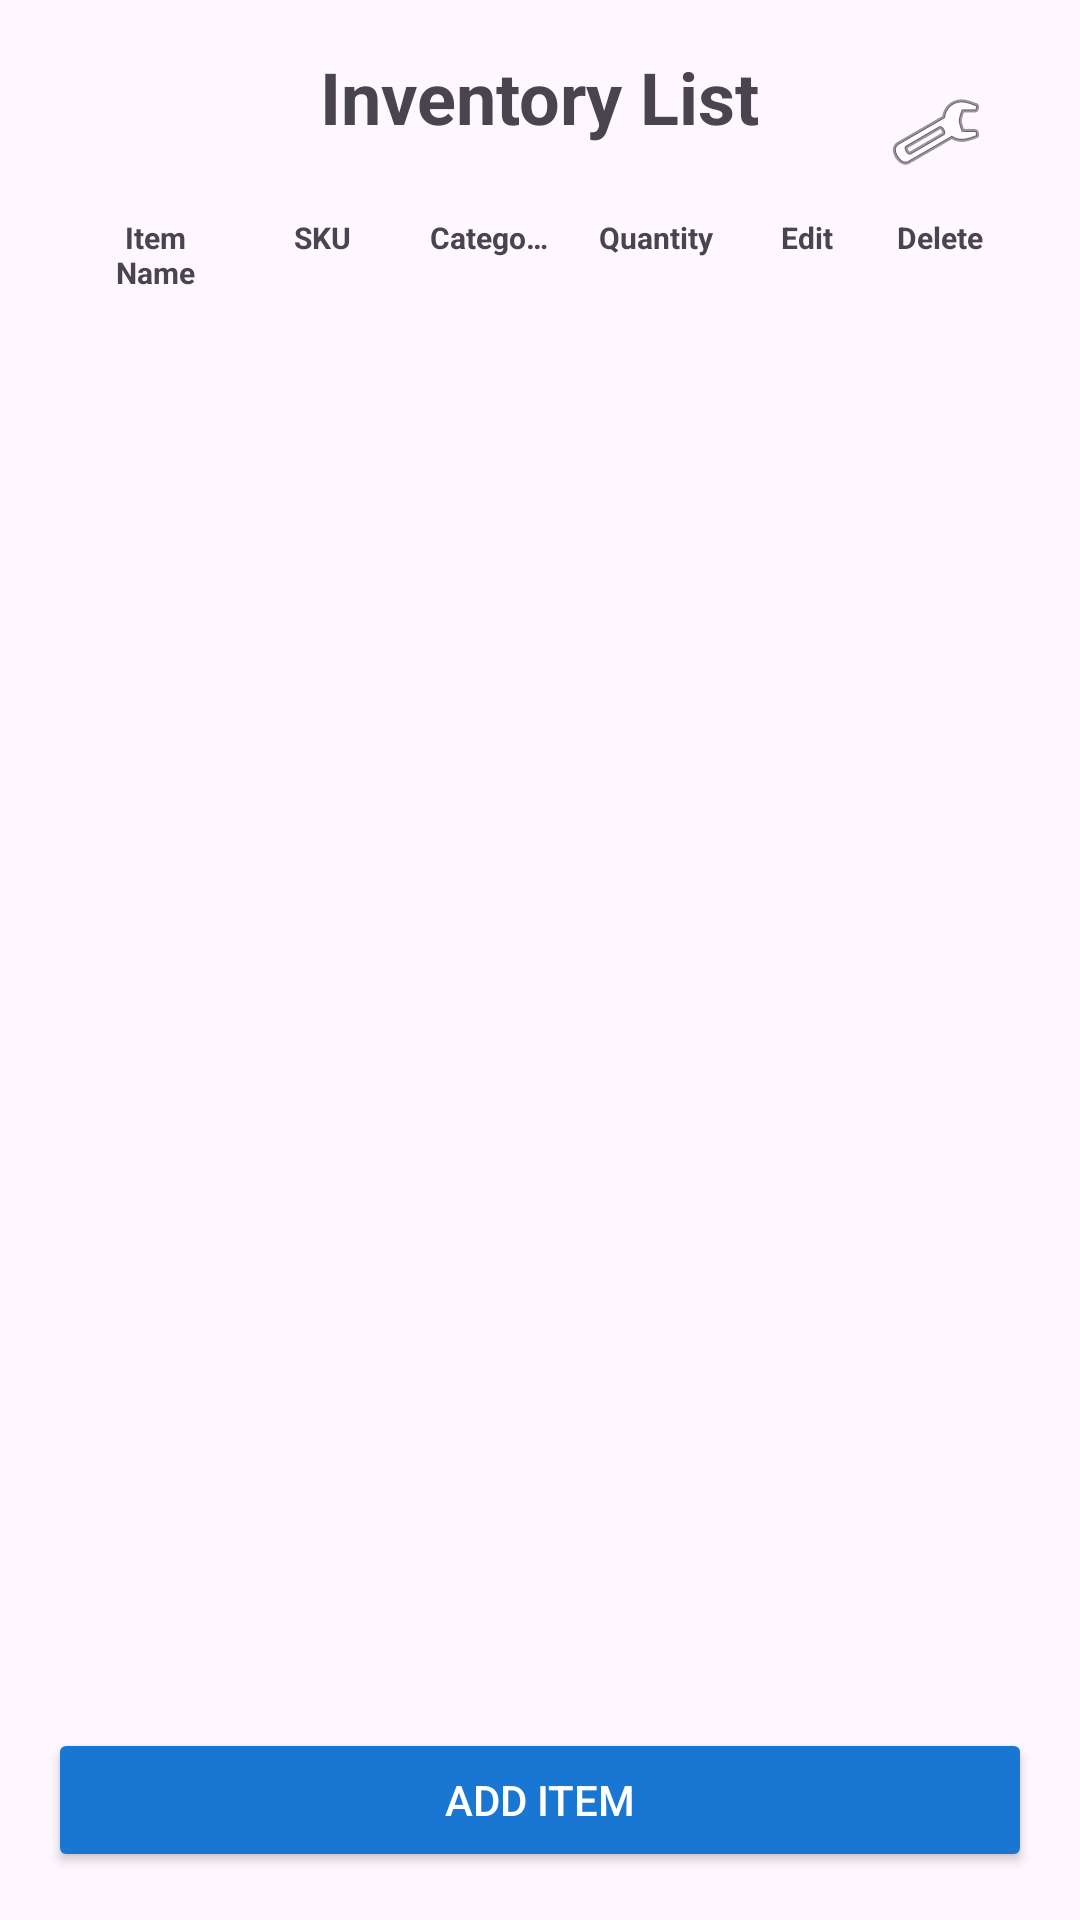

Icon click points for this 1080px x 1920px phone screenshot, format (x=x, y=y):
SMS Settings: (x=936, y=132)
